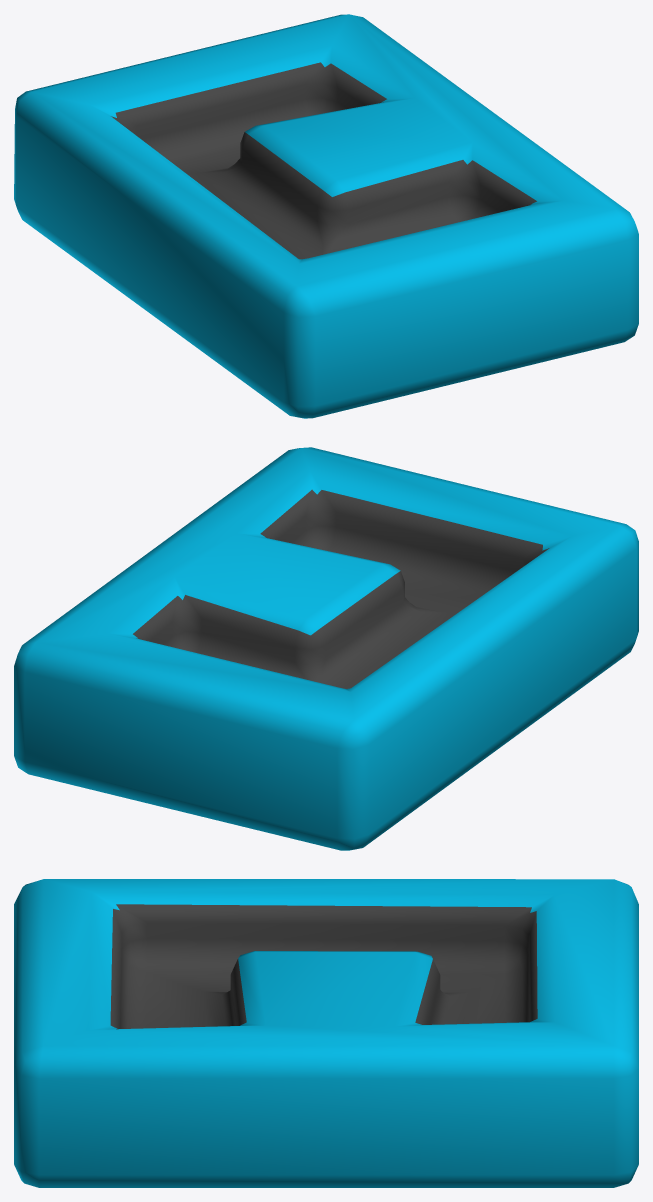
The model's file is continue.glb.
The picture shows the model from 3 angles, top to bottom: view 1: azimuth 30°, elevation 25°; view 2: azimuth 150°, elevation 25°; view 3: azimuth 270°, elevation 25°; orthographic projection. The views are drawn at different scales.
Visible parts, largest first — view 1: Cube; view 2: Cube; view 3: Cube.
Part boxes in pixels (x1,y1,x2,y2): Cube: (14,14,638,418); Cube: (14,447,638,850); Cube: (14,879,638,1187).
Size of the model in its own units: 0.35 by 0.125 by 0.5.
